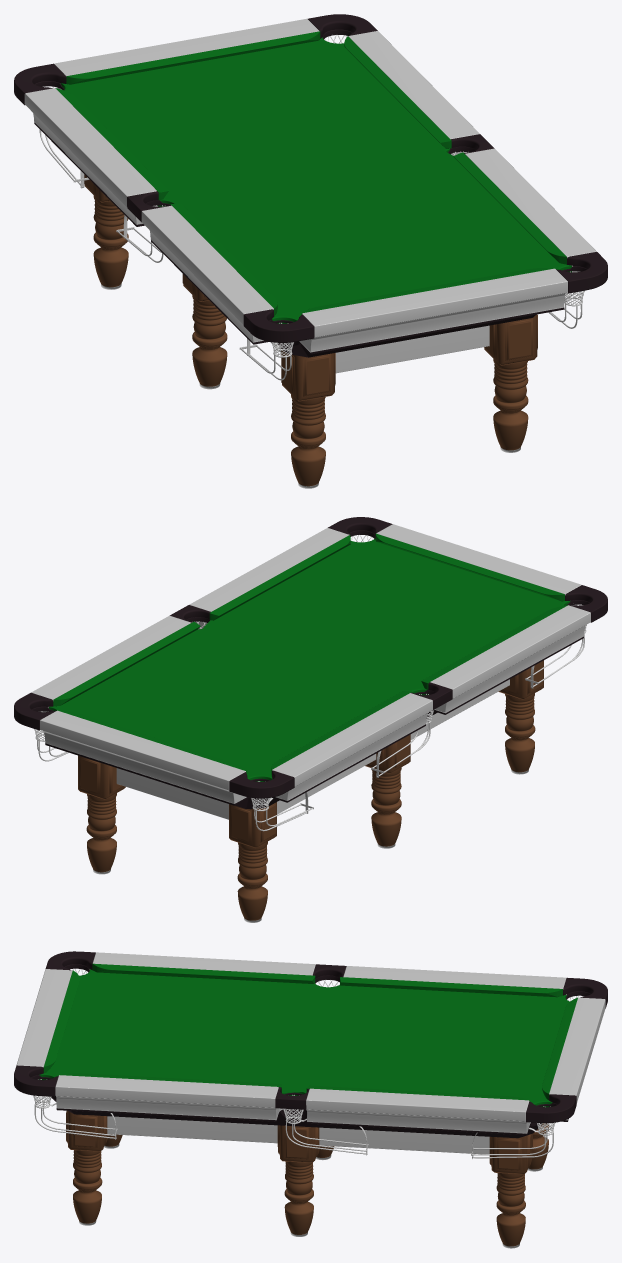
The model's file is LesBoules.fbx.
3 renders of one model, top to bottom at view 1: azimuth 30°, elevation 25°; view 2: azimuth 150°, elevation 25°; view 3: azimuth 270°, elevation 25°, orthographic. The views are drawn at different scales.
Visible parts, largest first — view 1: table; view 2: table; view 3: table.
Boxes of the visible parts, x1,y1,x2,y2 form: table: (14, 14, 607, 488); table: (14, 517, 607, 922); table: (14, 951, 607, 1248).
Bounding box in the file's own units: 143 × 67.12 × 222.
